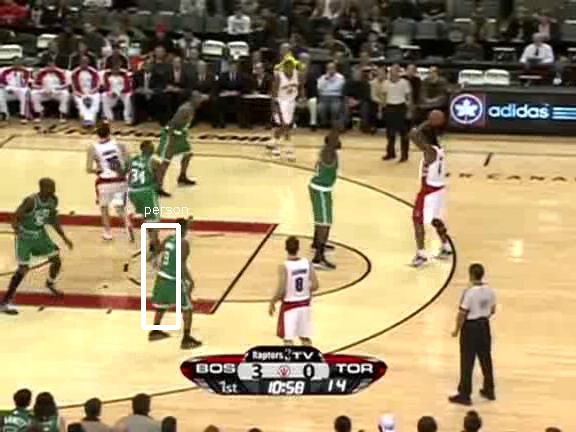person: (154, 230, 188, 311), (153, 230, 187, 311), (155, 230, 189, 311), (154, 229, 188, 310), (154, 231, 188, 312)
target_negative: (37, 371, 410, 418), (118, 91, 549, 119), (433, 11, 454, 306), (151, 417, 546, 432), (289, 266, 329, 383), (285, 225, 298, 249)
